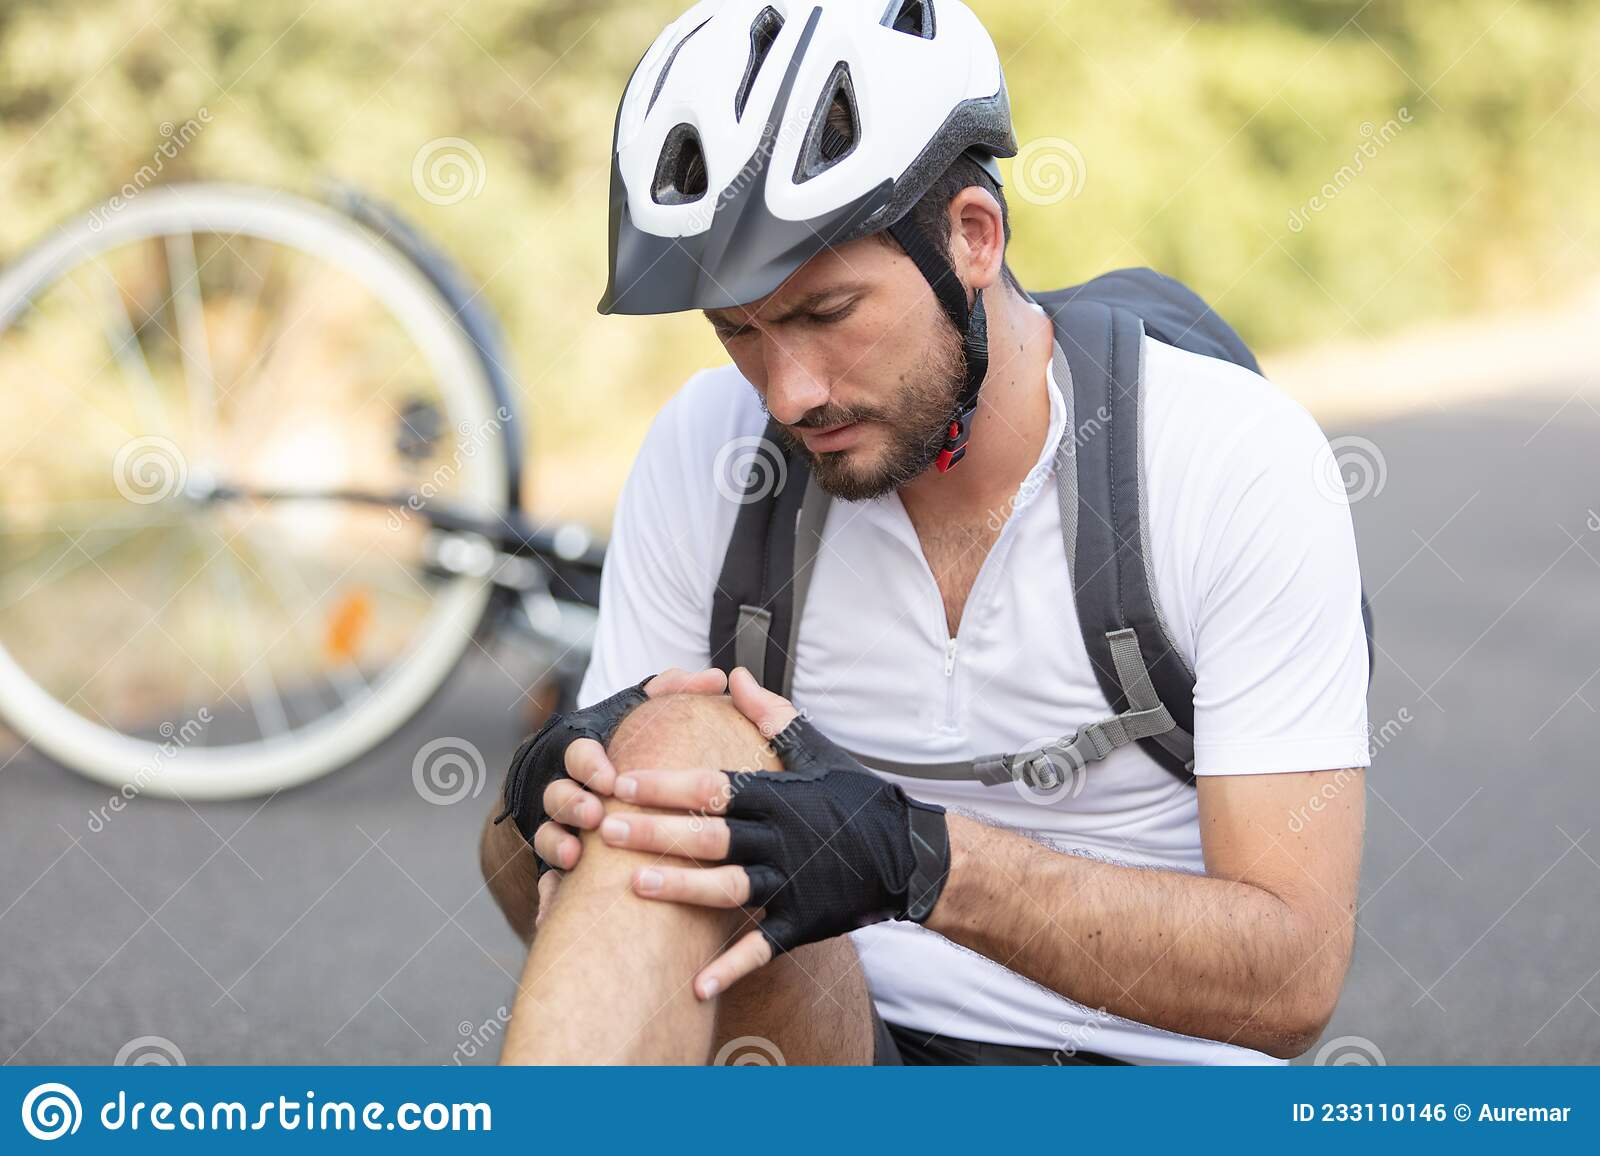helmet: (596, 1, 1019, 504)
